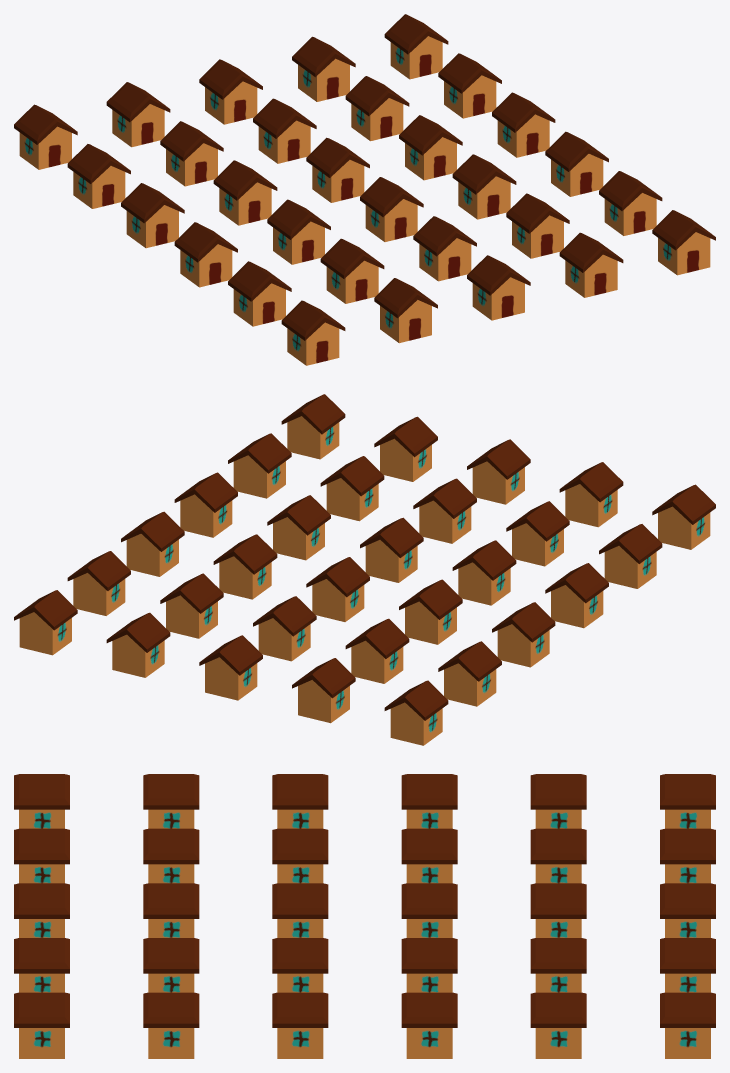
File: neighborhood.obj
3 views of the same model, one above another, from view 1: azimuth 30°, elevation 25°; view 2: azimuth 150°, elevation 25°; view 3: azimuth 270°, elevation 25° (orthographic). The views are drawn at different scales.
Parts seen in each view (by area): view 1: Cube; view 2: Cube; view 3: Cube.
Boxes of the visible parts, left/top/right/bottom form: Cube: left=14, top=14, right=715, bottom=365; Cube: left=14, top=394, right=715, bottom=745; Cube: left=14, top=774, right=715, bottom=1058.
Bounding box in the file's own units: 58.48 × 6.38 × 71.67.
Materials: 1 (1 with a texture image).
